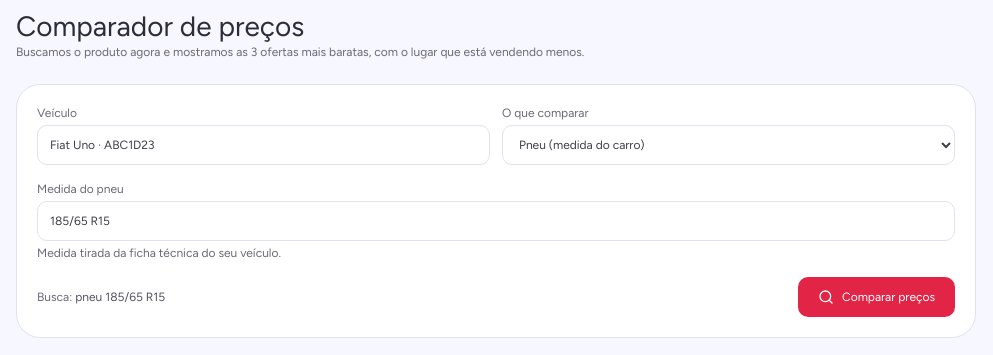
Comparador: medida do pneu › ao escolher “Sem veículo” não fica a medida do veículo anterior
The width and height of the screenshot is (993, 355).
Check: the field labelled "Medida do pneu" holds "185/65 R15", box [37,201,955,241]
Check: the text "Medida tirada da ficha técnica do seu veículo." is shown, box [37,246,281,260]
What coordinates should you click on to do the following:
click the dropdown named "Veículo"
I would click on:
 (264, 145)
Its box is [37,125,490,165].
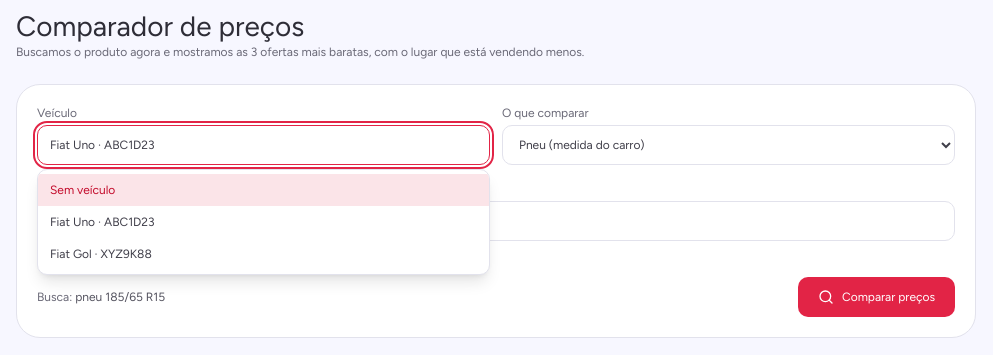
What coordinates should you click on to do the following:
click the option "Sem veículo"
I would click on:
 (83, 190)
Its box is [38,174,489,206].
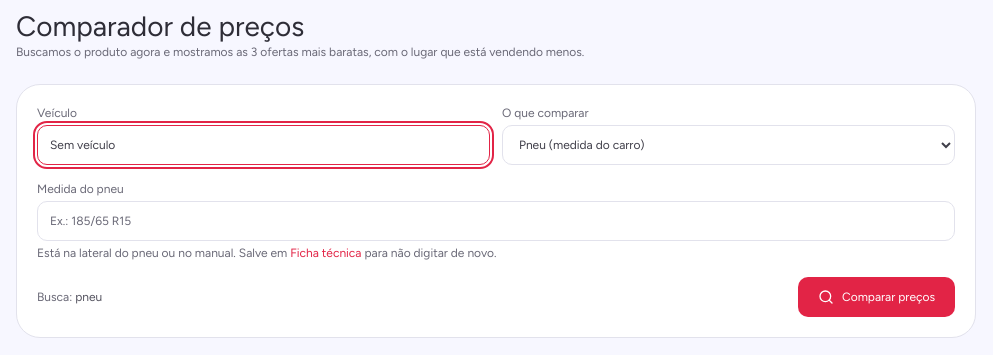
Check: the field labelled "Medida do pneu" is empty, box [37,201,955,241]
Check: the text "tirada da ficha técnica" is gone
